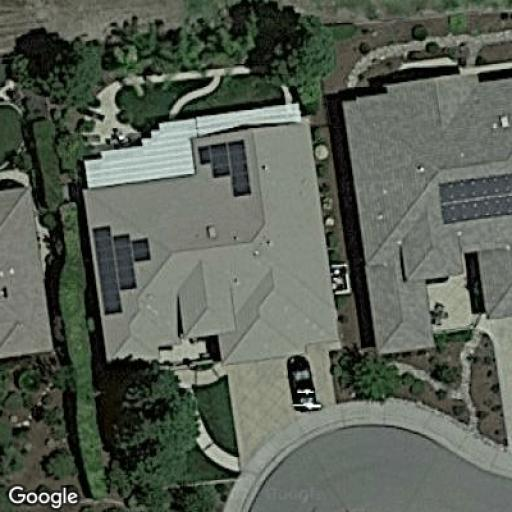solar-panel: (90, 224, 153, 318), (434, 169, 512, 223), (197, 138, 253, 198)
